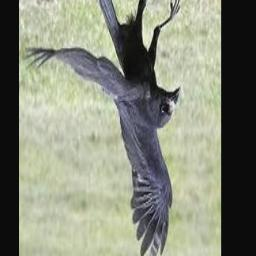Crow: (25, 0, 181, 256)
